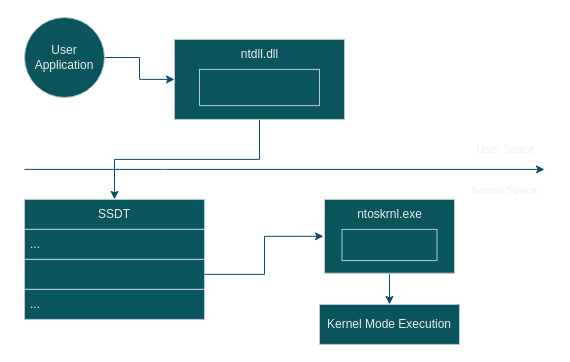
Some shapes in this 570 by 362 pixel diagram are drawn without their labels. The shapes that lost their labels are listed below. From the top down, each one's centre as x and y in pixels, then its label:
the point at 259,87: NtShutdownSystem
the point at 389,244: Payload
the point at 114,273: Hooked NtShutdownSystem
